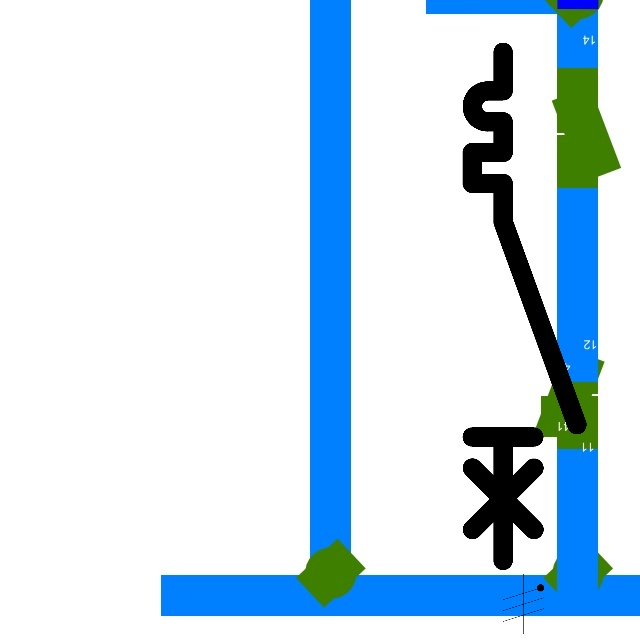interruptor_termomagnetico: (459, 39, 590, 573)
